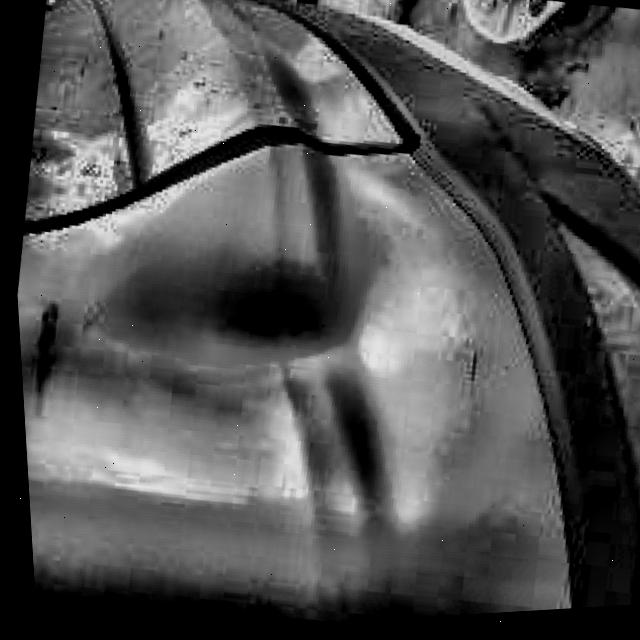bumper_dent: (56, 124, 535, 582)
